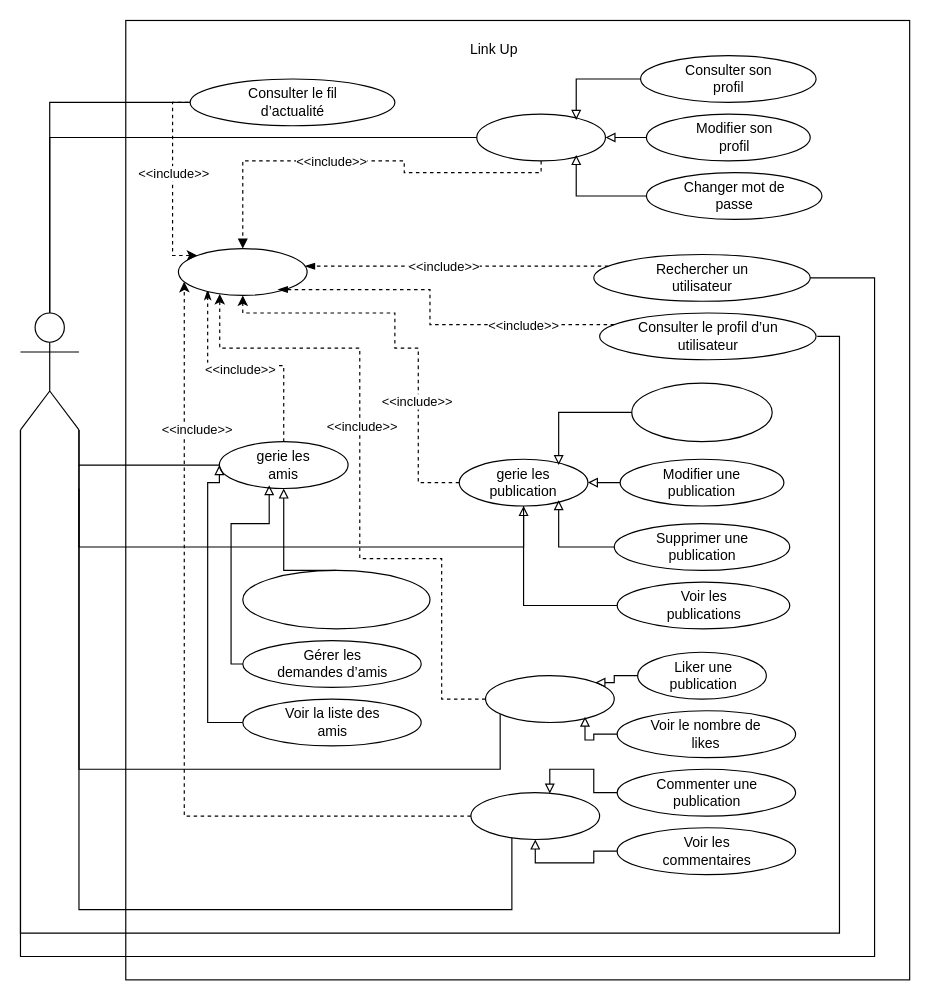
The diagram is 930 pixels wide and 1000 high, and some of its shapes have lost their labels. Here are the shapes that lost their labels. From the top down, the centre of each, then its label:
the point at 540,137: gerie le profile
the point at 242,271: S'authentifie
the point at 49,371: user
the point at 701,412: Créer une publication
the point at 336,599: Envoyer une demande d’ami
the point at 549,698: gerie les likes
the point at 535,815: gerie les commentaire
